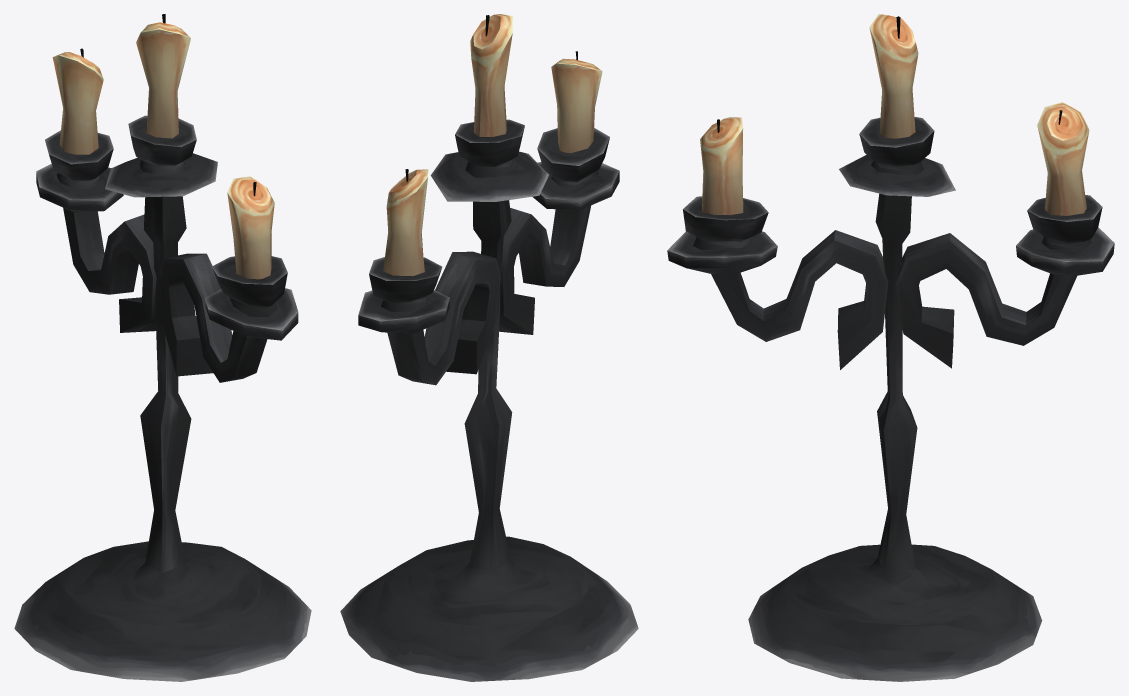
File: SM_PROP_candle_dungeon_02.fbx
3 views of the same model, side by side, from view 1: azimuth 30°, elevation 25°; view 2: azimuth 150°, elevation 25°; view 3: azimuth 270°, elevation 25° (orthographic).
Parts seen in each view (by area): view 1: SM_PROP_candle_dungeon_02; view 2: SM_PROP_candle_dungeon_02; view 3: SM_PROP_candle_dungeon_02.
Part boxes in pixels (bbox=[...]): SM_PROP_candle_dungeon_02: bbox=[14, 14, 311, 681]; SM_PROP_candle_dungeon_02: bbox=[340, 14, 638, 681]; SM_PROP_candle_dungeon_02: bbox=[667, 14, 1114, 681].
Size of the model in its own units: 32.49 by 73.57 by 49.41.
